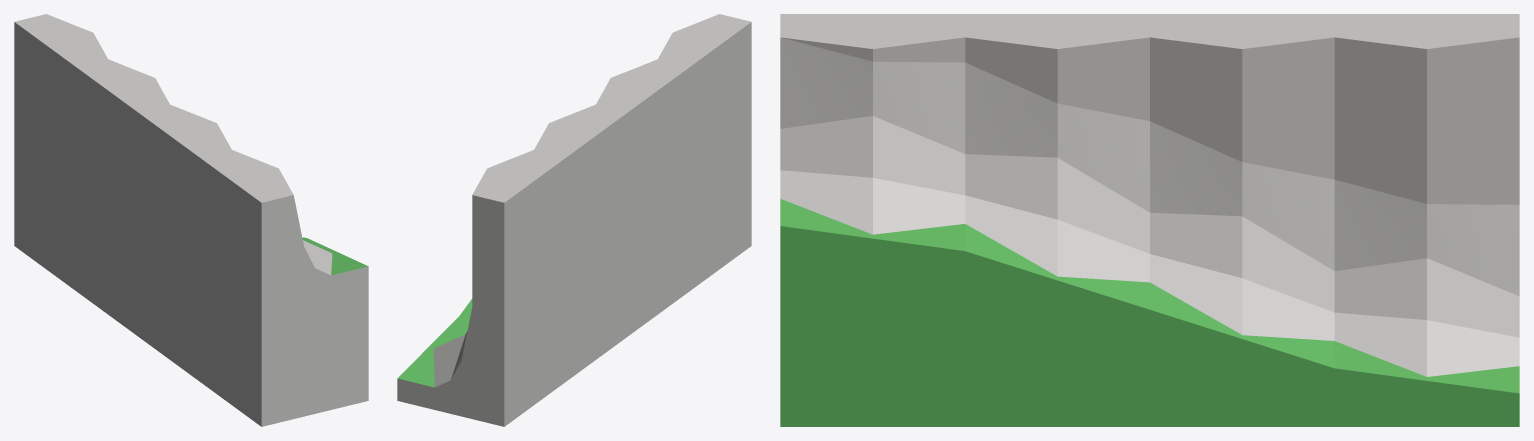
Rendered from Cliff_Base_Hill_Gentle.glb.
The picture shows the model from 3 angles, left to right: view 1: azimuth 30°, elevation 25°; view 2: azimuth 150°, elevation 25°; view 3: azimuth 270°, elevation 25°; orthographic projection. The views are drawn at different scales.
Visible parts, largest first — view 1: object1; view 2: object1; view 3: object1.
Part boxes in pixels (x1=…): object1: x1=14, y1=14, x2=368, y2=426; object1: x1=397, y1=14, x2=751, y2=426; object1: x1=780, y1=14, x2=1519, y2=426.
Size of the model in its own units: 1 by 2 by 4.
